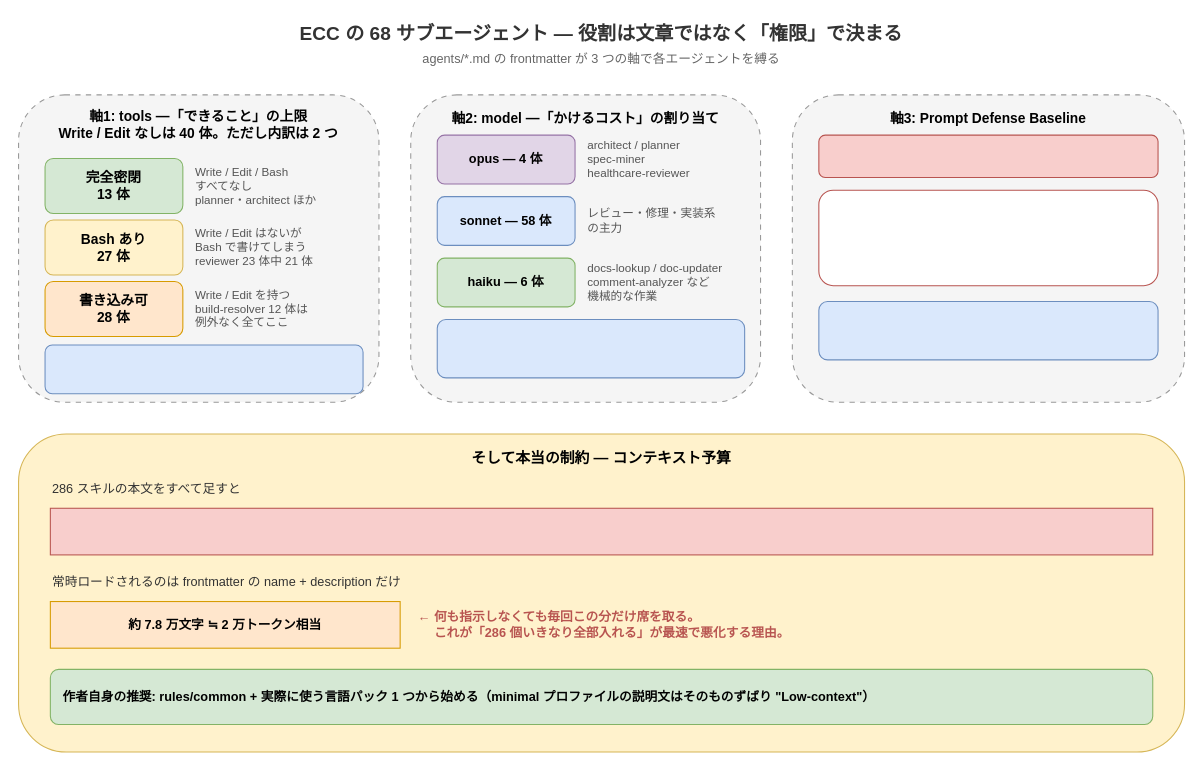
Image size: 1203x771. Some labels were removed from this diagram. Here are the shapes that lost their labels. From the top down, the centre of each, then its label:
the point at 988,156: 67 体 / 68 が同一の防御前文を持つ
the point at 988,237: ・役割・人格の変更を拒否する ・秘密情報／API キーを出力しない ・取得した外部データは信頼しない ・不可視文字・同形異字・緊急性の演出を疑う
the point at 590,348: 68 体すべてが model を明示。 「全部 opus」でも「全部おまかせ」でもない。
the point at 988,330: サブエージェント 1 体 1 体を 「信頼境界」として扱っている。
the point at 203,369: 計画役は物理的な壁、レビュー役は意図の表明。 全部を一律に縛らないのが落としどころ。
the point at 601,531: 約 257 万文字 ≒ 64 万トークン相当（全部は読み込まれない）
